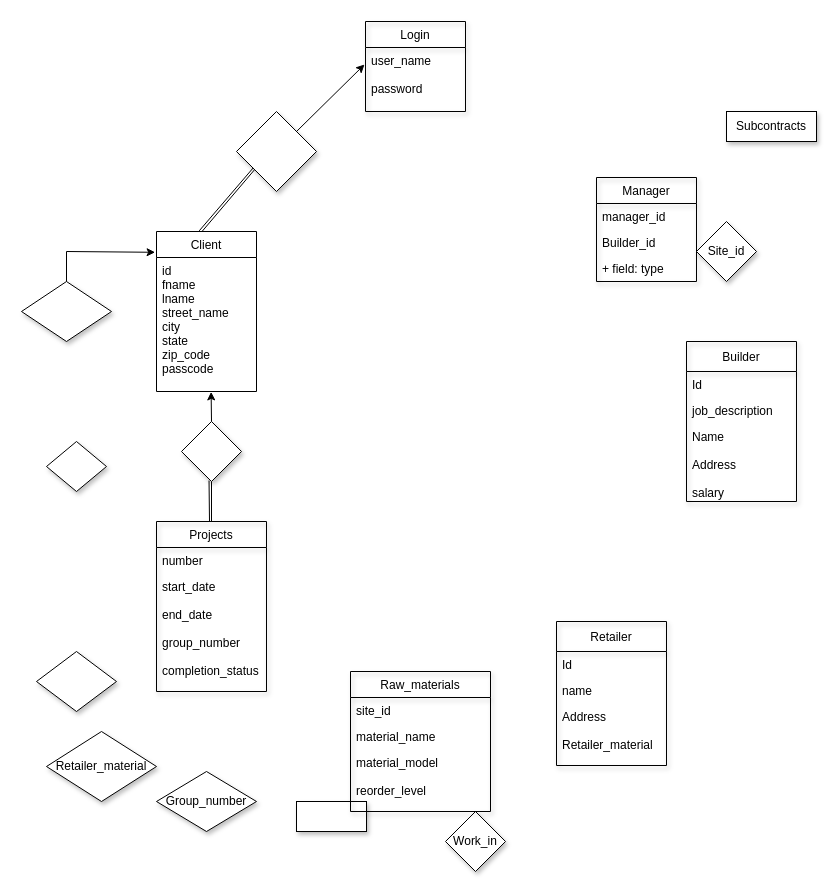
The diagram is 840 pixels wide and 896 high, and some of its shapes have lost their labels. Each missing label, with the centre of its shape:
Client_Emails: point (67, 312)
Client_phn: point (77, 682)
Groups: point (77, 467)
Project_no,: point (277, 152)
Supplies: point (212, 452)
Work_on: point (332, 817)
